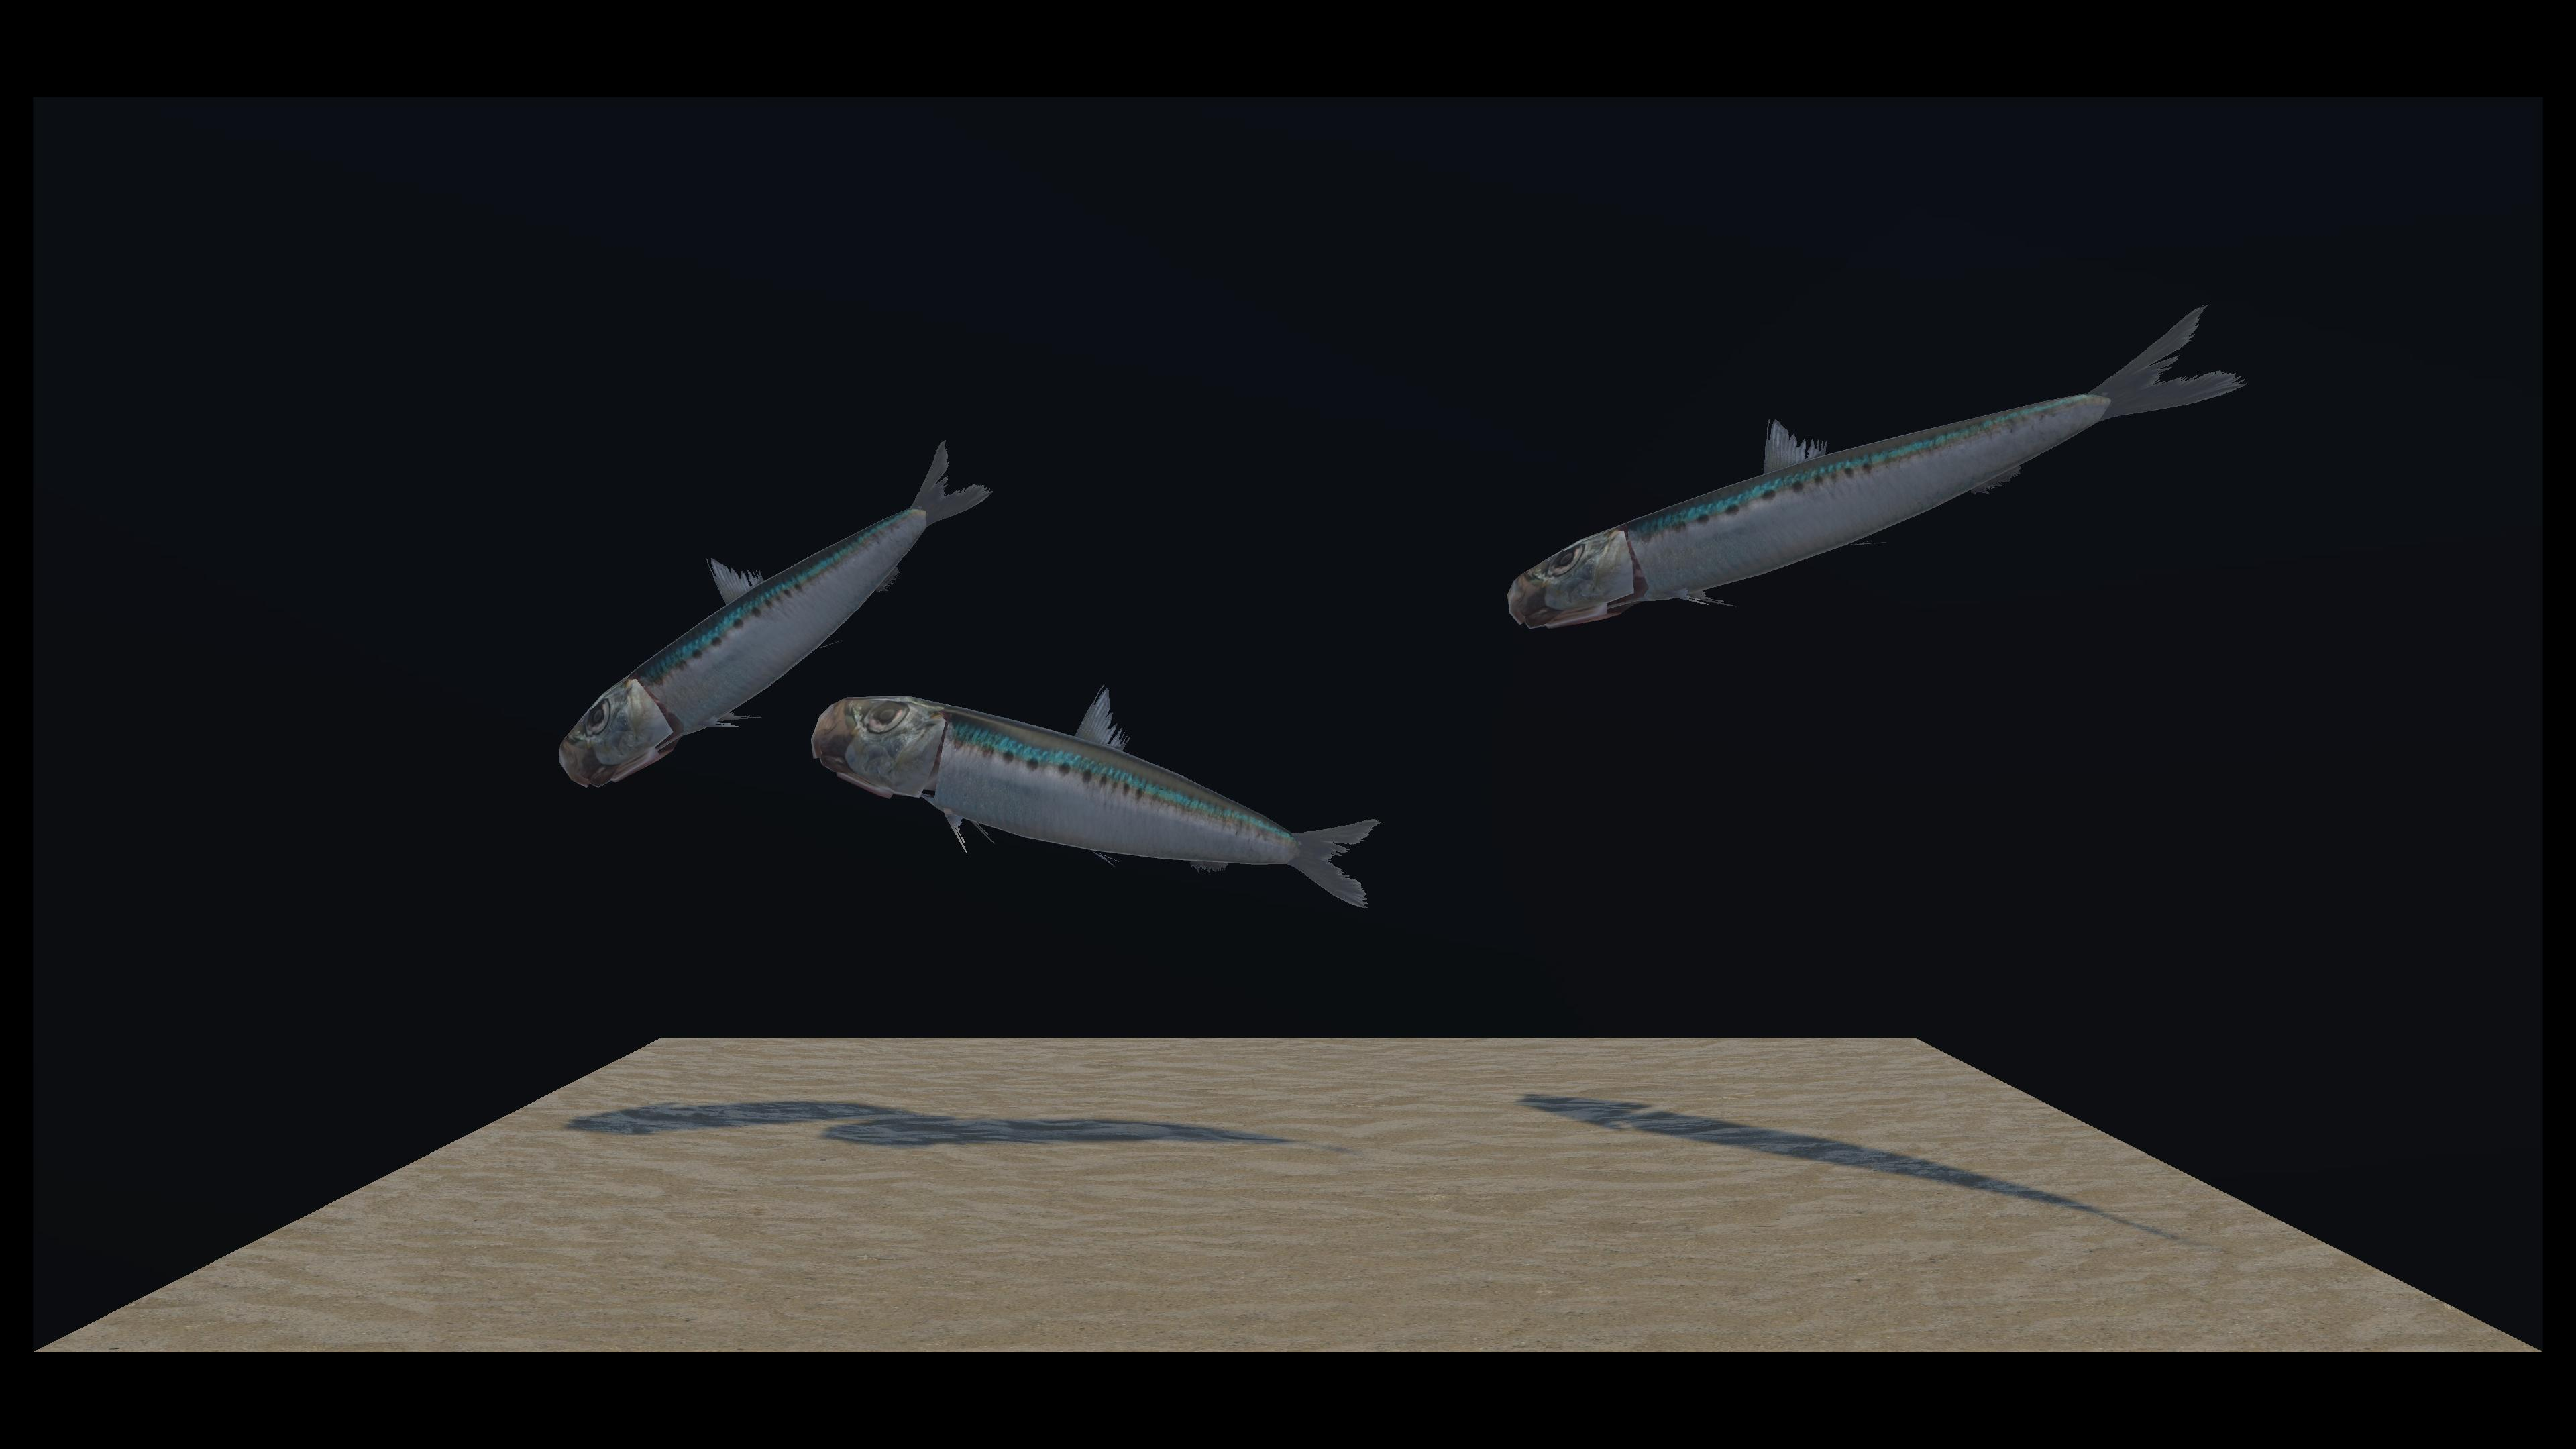Sardine_Front: (1033, 308, 2229, 617), (686, 410, 1373, 904), (566, 439, 993, 738)
